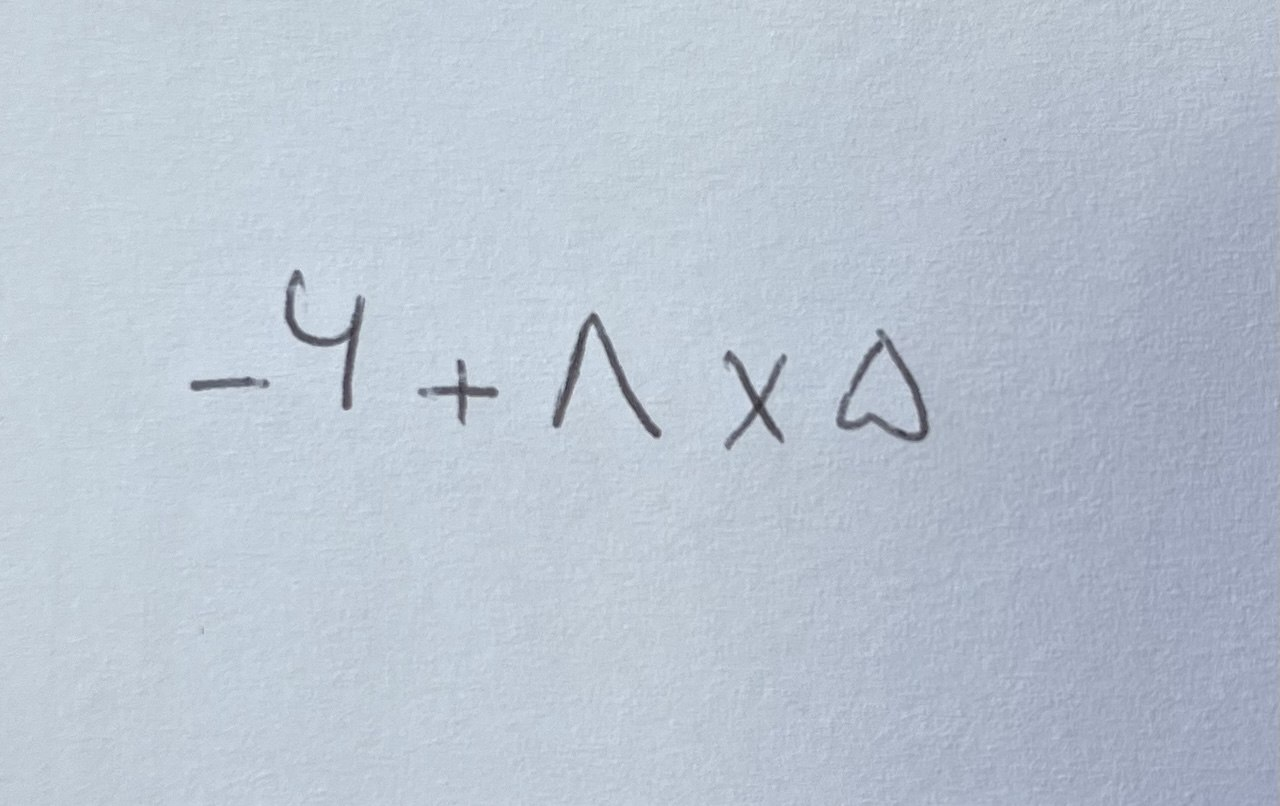character: (552, 312, 663, 440), (284, 268, 367, 408), (836, 327, 932, 446), (721, 349, 789, 454), (417, 357, 497, 428), (189, 375, 273, 393)
